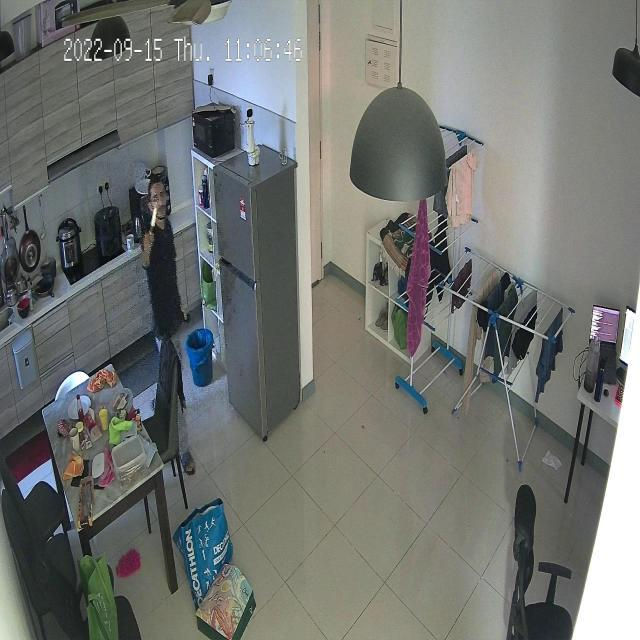Knife: (141, 200, 165, 238)
